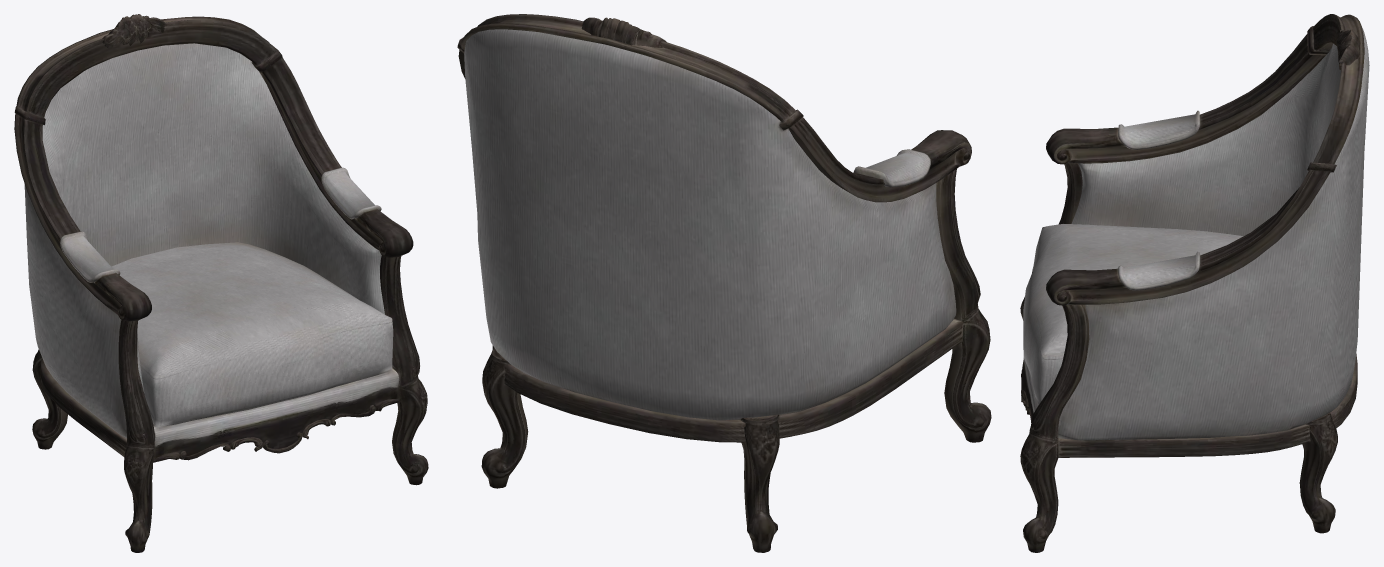
The model's file is klasik-berjer.glb.
3 views of the same model, side by side, from view 1: azimuth 30°, elevation 25°; view 2: azimuth 150°, elevation 25°; view 3: azimuth 270°, elevation 25° (orthographic). The views are drawn at different scales.
Parts seen in each view (by area): view 1: ArmChair_01; view 2: ArmChair_01; view 3: ArmChair_01.
Boxes of the visible parts, x1,y1,x2,y2 form: ArmChair_01: (14,14,428,552); ArmChair_01: (457,14,991,552); ArmChair_01: (1020,14,1369,552).
Bounding box in the file's own units: 0.8484 × 1.07 × 0.7658.
1 material, 1 textured.
